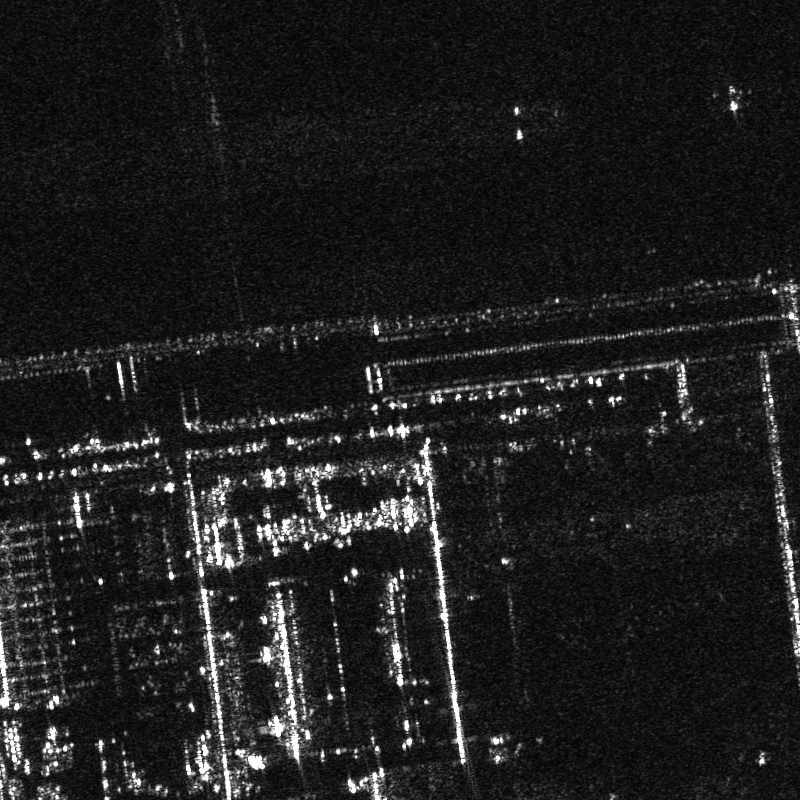A330: (710, 79, 753, 115)
